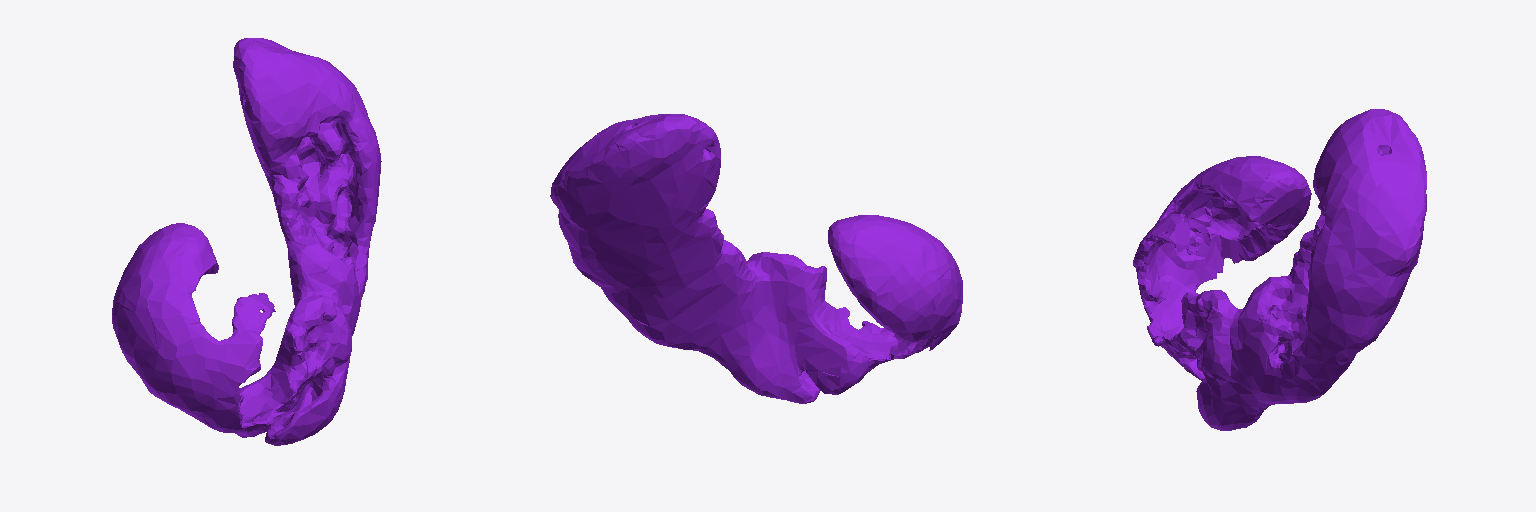
3 views of the same model, side by side, from view 1: azimuth 30°, elevation 25°; view 2: azimuth 150°, elevation 25°; view 3: azimuth 270°, elevation 25° (orthographic).
Parts seen in each view (by area): view 1: Polygonal_Model_10_Triangles_0; view 2: Polygonal_Model_10_Triangles_0; view 3: Polygonal_Model_10_Triangles_0.
Boxes of the visible parts, box(x1,y1,x2,y2) form: Polygonal_Model_10_Triangles_0: box(112, 38, 381, 445); Polygonal_Model_10_Triangles_0: box(550, 114, 962, 403); Polygonal_Model_10_Triangles_0: box(1133, 109, 1426, 430).
Size of the model in its own units: 6.79 by 6.82 by 5.52.